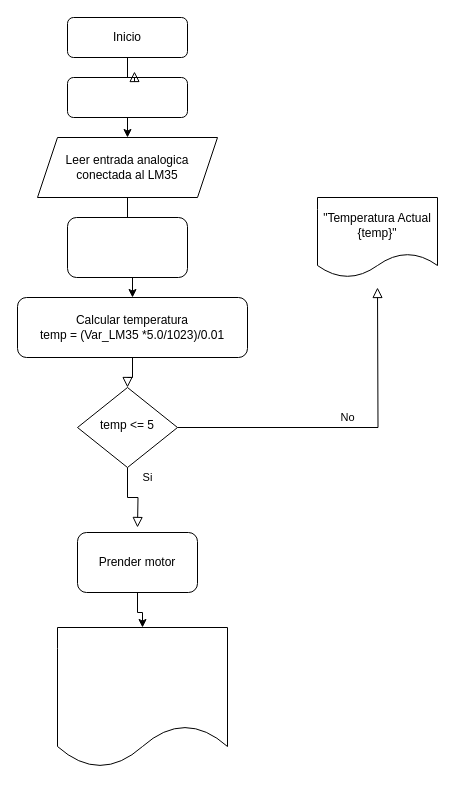
This 455x785 diagram has some shape labels left out. The shapes that lost their labels are listed below. From the top down, each one's centre as x and y in pixels, then its label:
(127,97): temp = 0
(127,247): Var_LM35 = analogRead(A0)
(142,697): "Activando Motor" "Temperatura actual {temp}"
